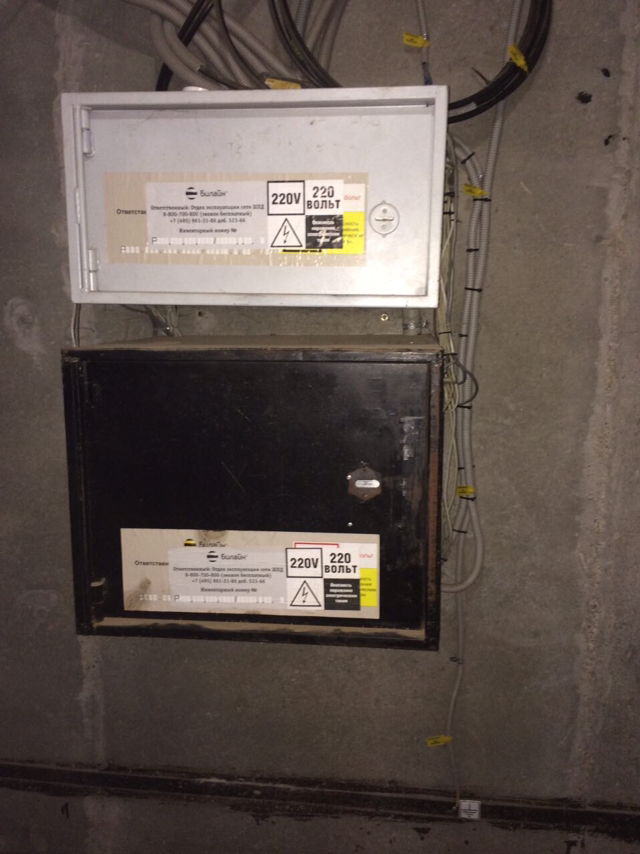shta-7m: (55, 83, 450, 311)
shta-9m: (59, 336, 443, 651)
